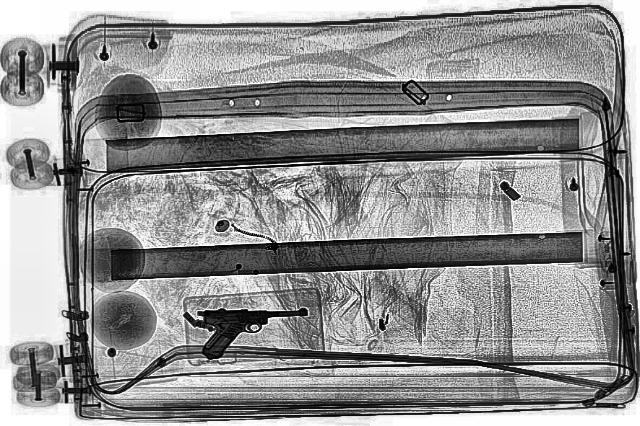Gun: (196, 306, 310, 359)
